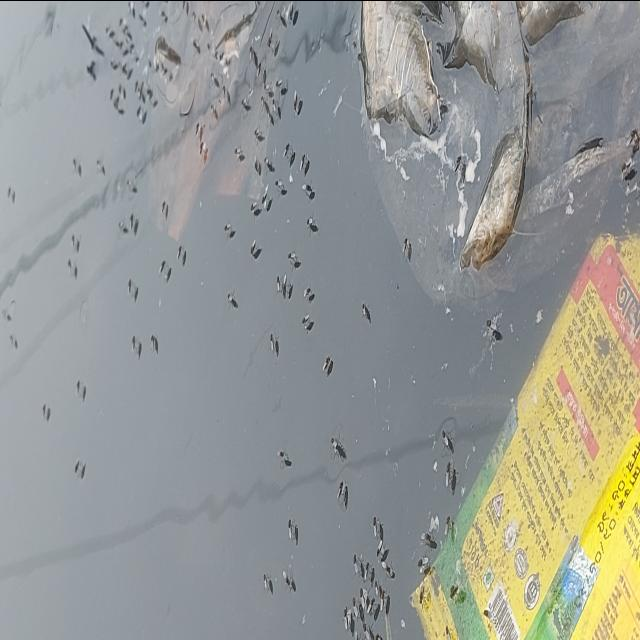Breeding Place: (0, 0, 640, 640)
Mosquito Swarm: (46, 0, 500, 640)
